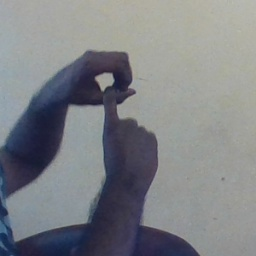Q: (44, 47, 164, 169)
